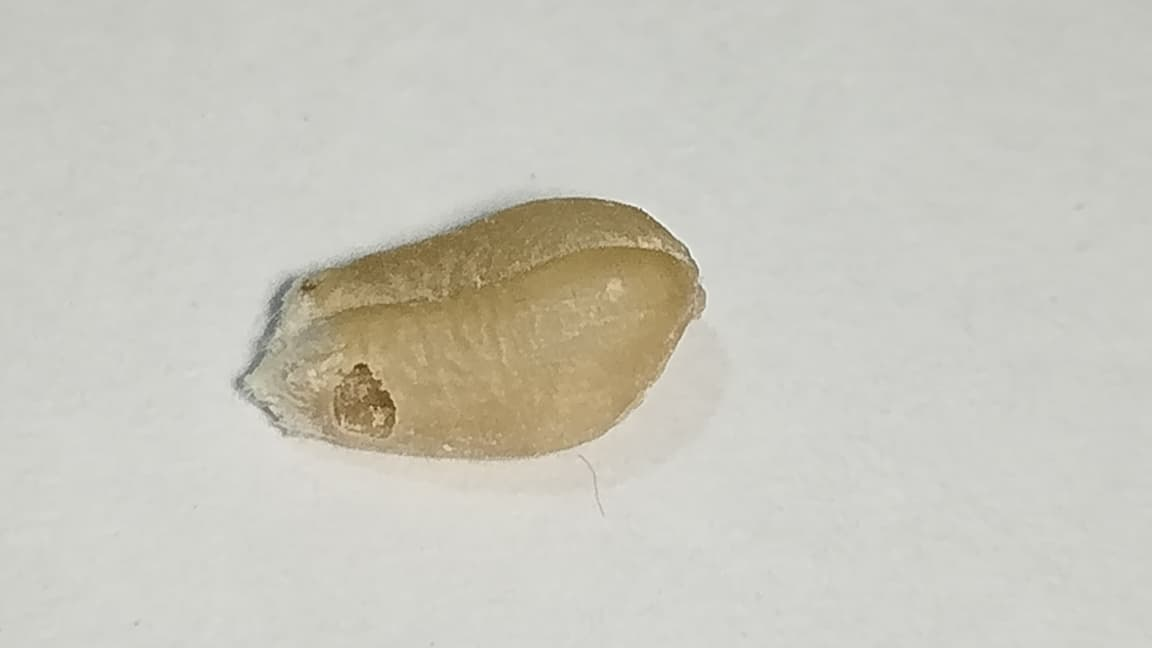damage: (243, 198, 704, 460)
insectdamage: (314, 341, 449, 462)
